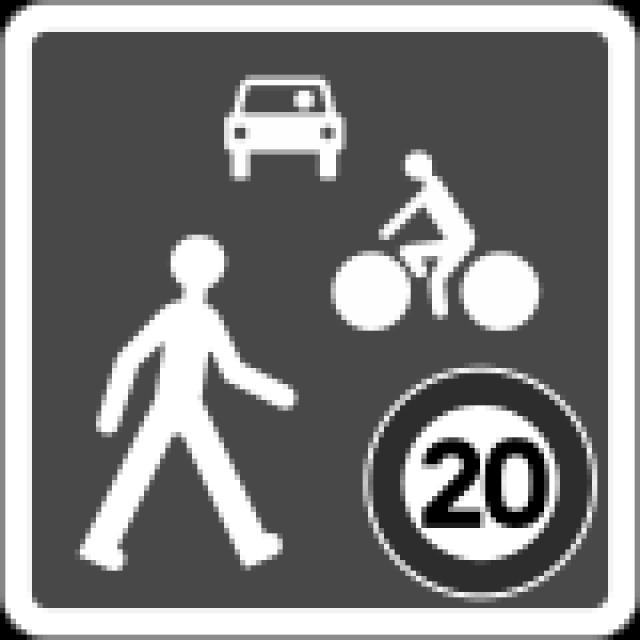indication: (0, 0, 640, 640)
speed_20: (355, 365, 600, 600)
